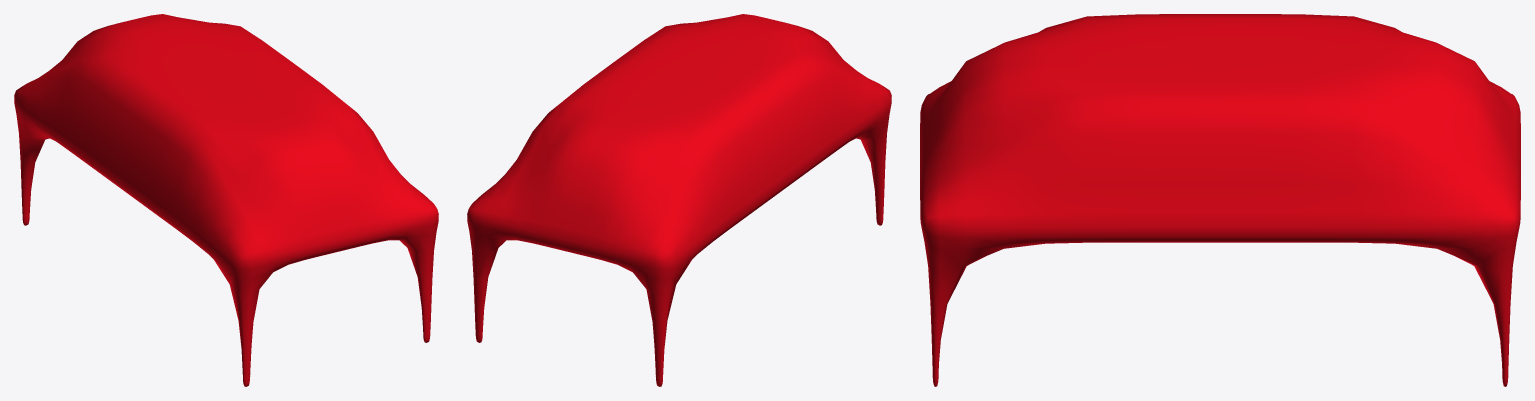
The model's file is Table2.fbx.
The picture shows the model from 3 angles, left to right: view 1: azimuth 30°, elevation 25°; view 2: azimuth 150°, elevation 25°; view 3: azimuth 270°, elevation 25°; orthographic projection. The views are drawn at different scales.
Parts seen in each view (by area): view 1: Cube.020_Cube.003; view 2: Cube.020_Cube.003; view 3: Cube.020_Cube.003.
Part boxes in pixels (<box>): Cube.020_Cube.003: <box>14,14,438,386</box>; Cube.020_Cube.003: <box>467,14,891,386</box>; Cube.020_Cube.003: <box>920,14,1520,386</box>.
Bounding box in the file's own units: 57.55 × 55.16 × 111.
